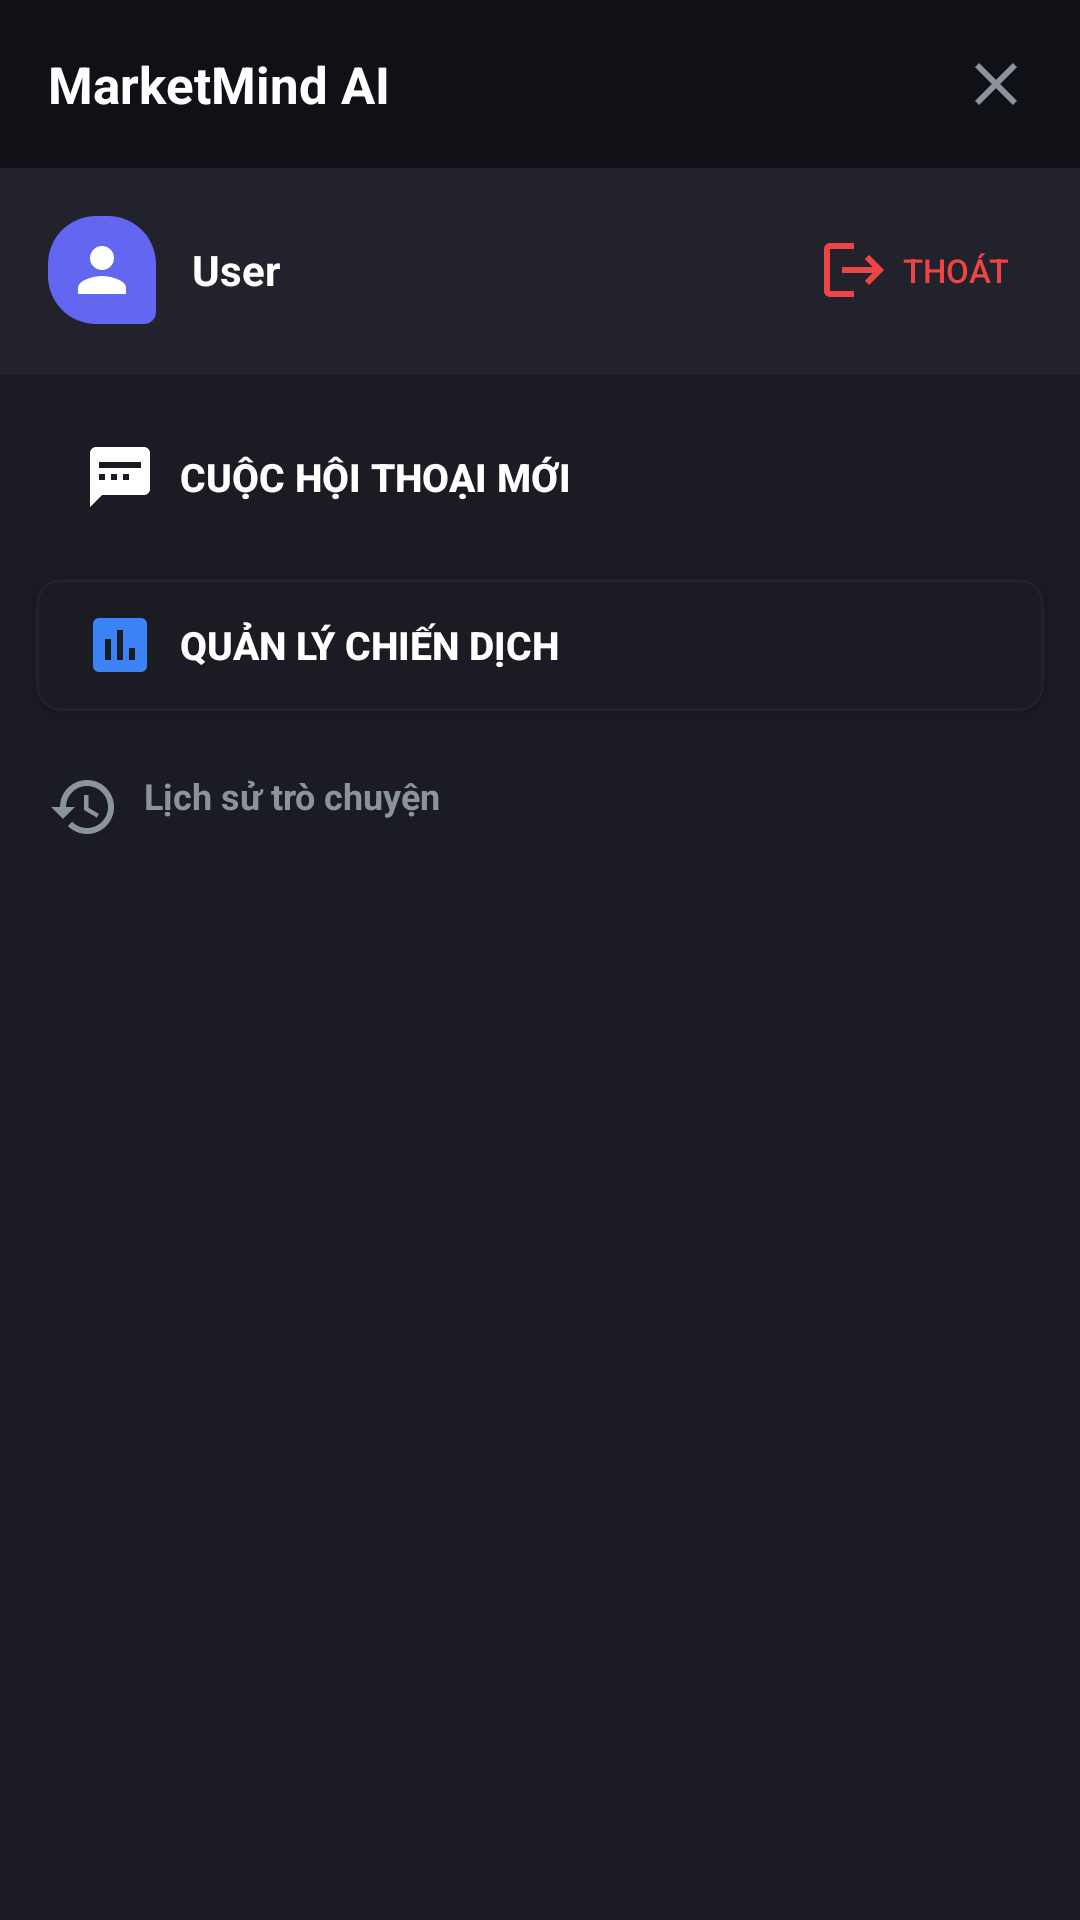

Icon click points for this 1080 × 1920 phone screenshot, format (x,y):
close: (996,84)
person: (102,270)
